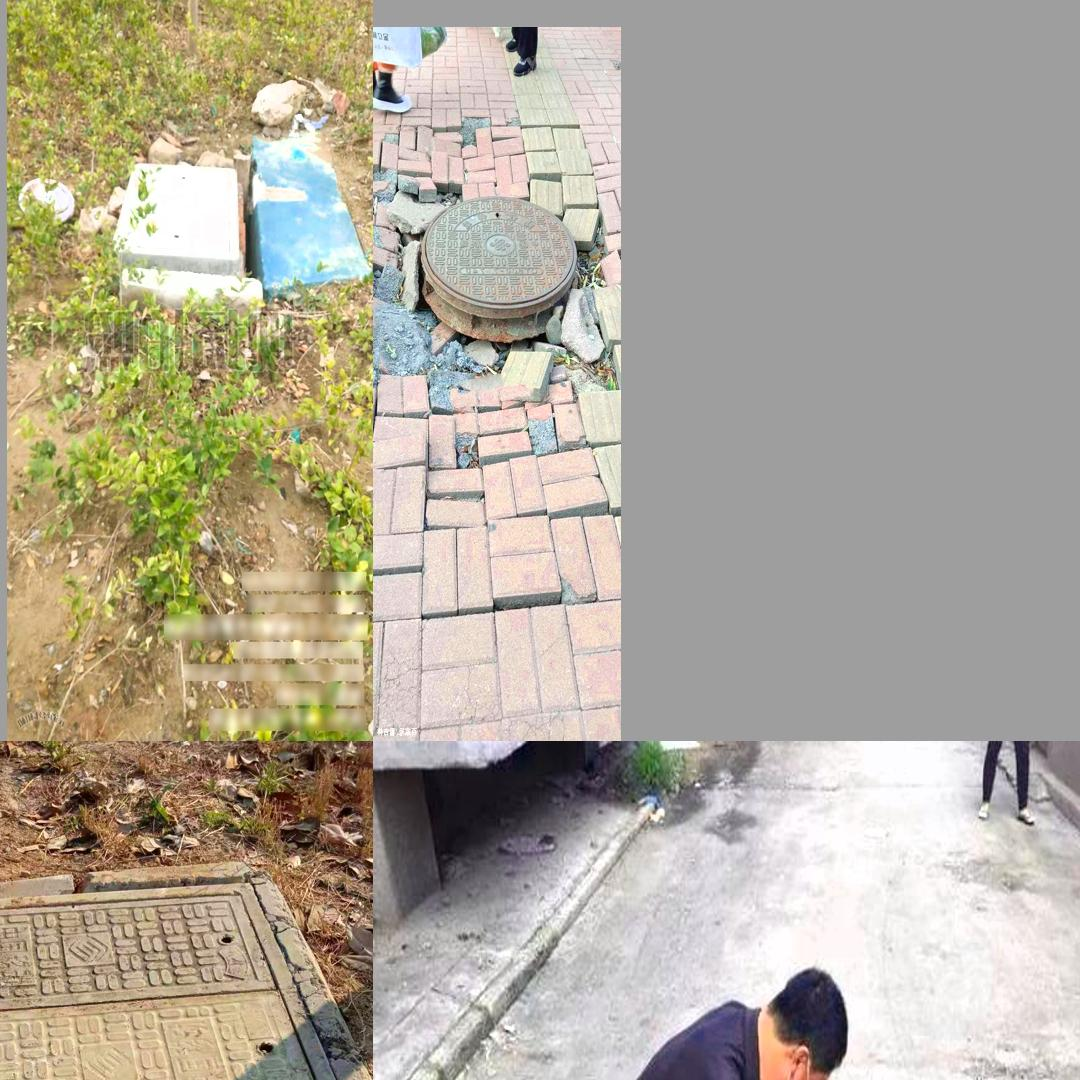circle: (375, 134, 615, 477), (0, 864, 373, 1080), (103, 153, 265, 299)
